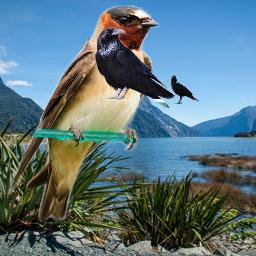Crow: (95, 27, 175, 109), (170, 75, 199, 104)
Swallow: (7, 5, 159, 222)
